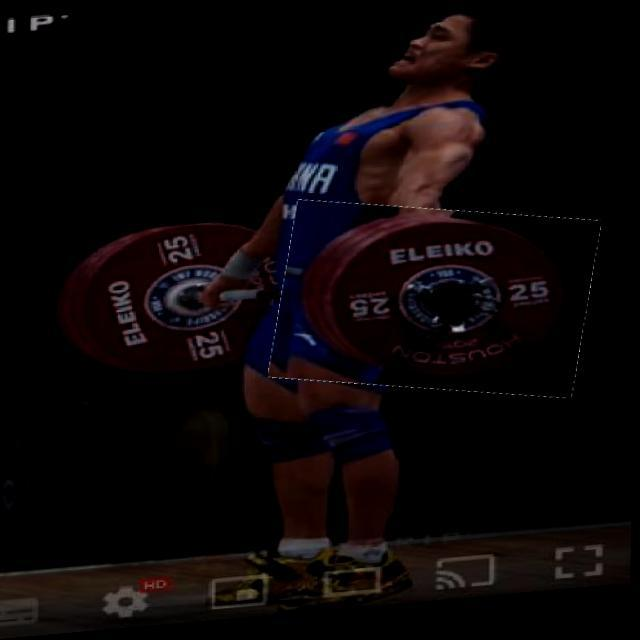barbell: (276, 197, 598, 419)
